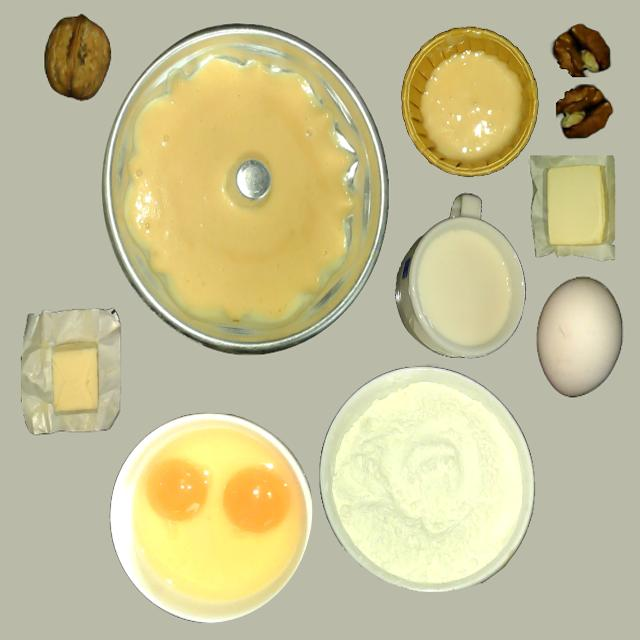Egg: (223, 467, 289, 533), (147, 459, 211, 522)
Flour: (317, 367, 530, 593)
Milk: (416, 228, 515, 348)
Walnut: (44, 15, 110, 100)
